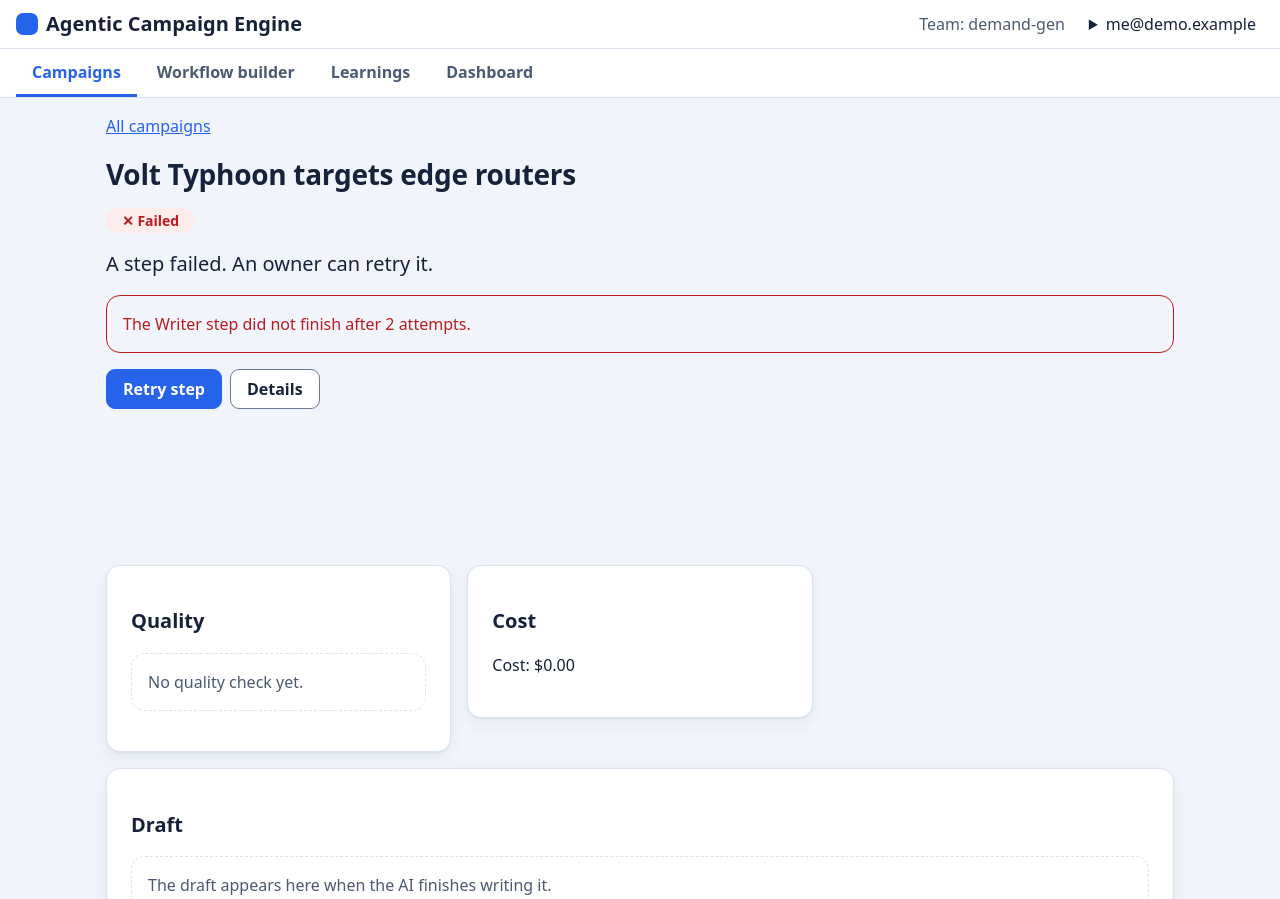
Test: a failed run: the owner retries the step and the screen reaches Finished, with no Retry button
What coordinates should you click on to do the following:
click the button "Retry step"
I would click on:
 (164, 389)
Its box is [106,369,222,409].
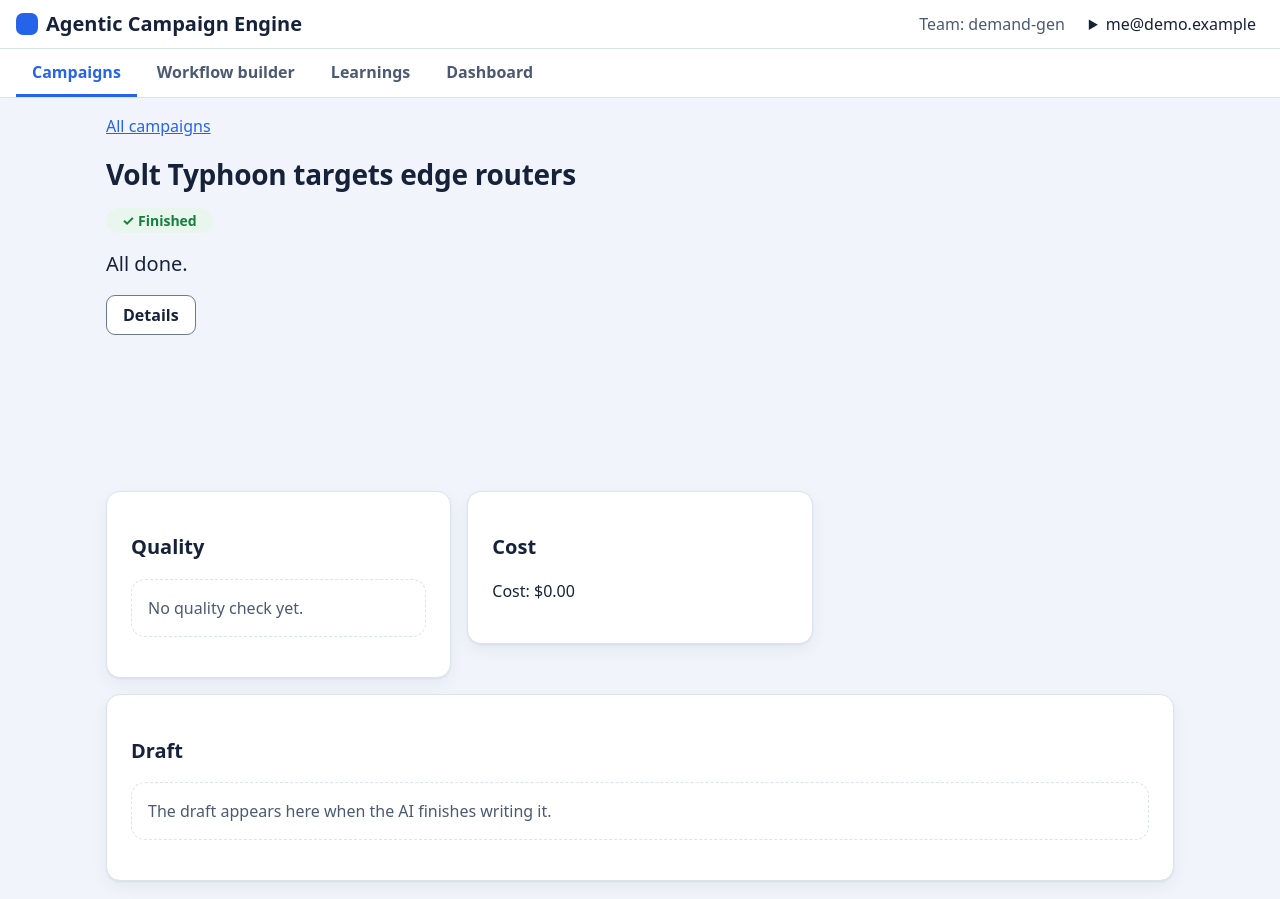
Result: the text "Finished" is shown at [138,211,197,230]
Result: the button "Retry step" is gone
